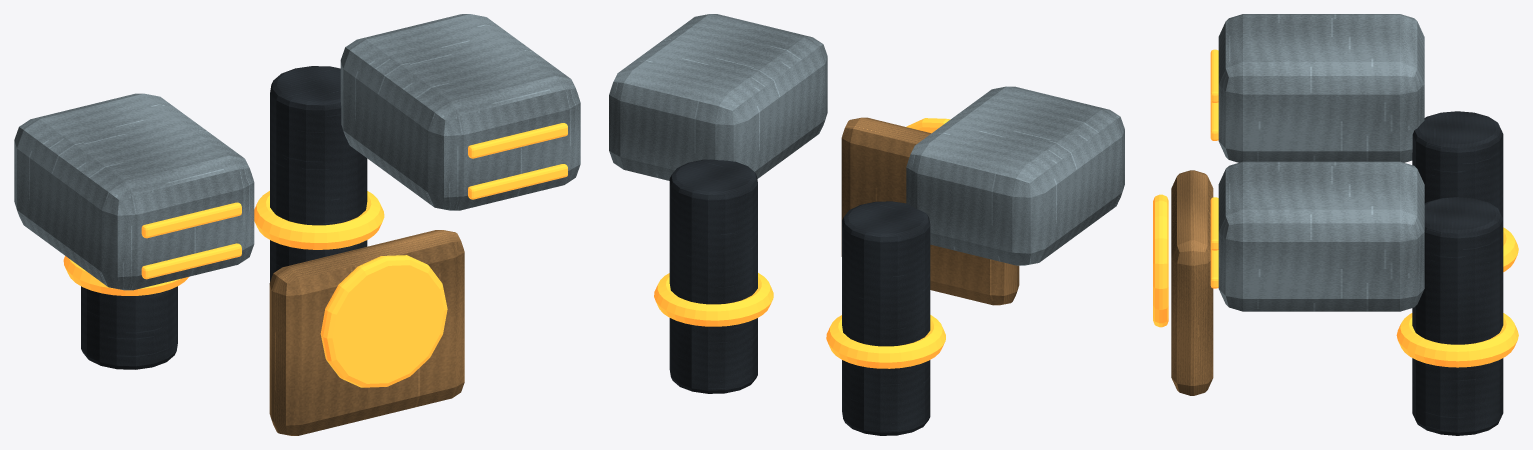
The model's file is evolution_mechanical.glb.
The picture shows the model from 3 angles, left to right: view 1: azimuth 30°, elevation 25°; view 2: azimuth 150°, elevation 25°; view 3: azimuth 270°, elevation 25°; orthographic projection. The views are drawn at different scales.
Visible parts, largest first — view 1: evolution_mechanical; view 2: evolution_mechanical; view 3: evolution_mechanical.
Part boxes in pixels (left/top/right/bottom): evolution_mechanical: left=14, top=14, right=580, bottom=435; evolution_mechanical: left=609, top=14, right=1124, bottom=435; evolution_mechanical: left=1153, top=14, right=1518, bottom=435.
Size of the model in its own units: 1.46 by 0.835 by 1.05.
Materials: 4 (3 with a texture image).
